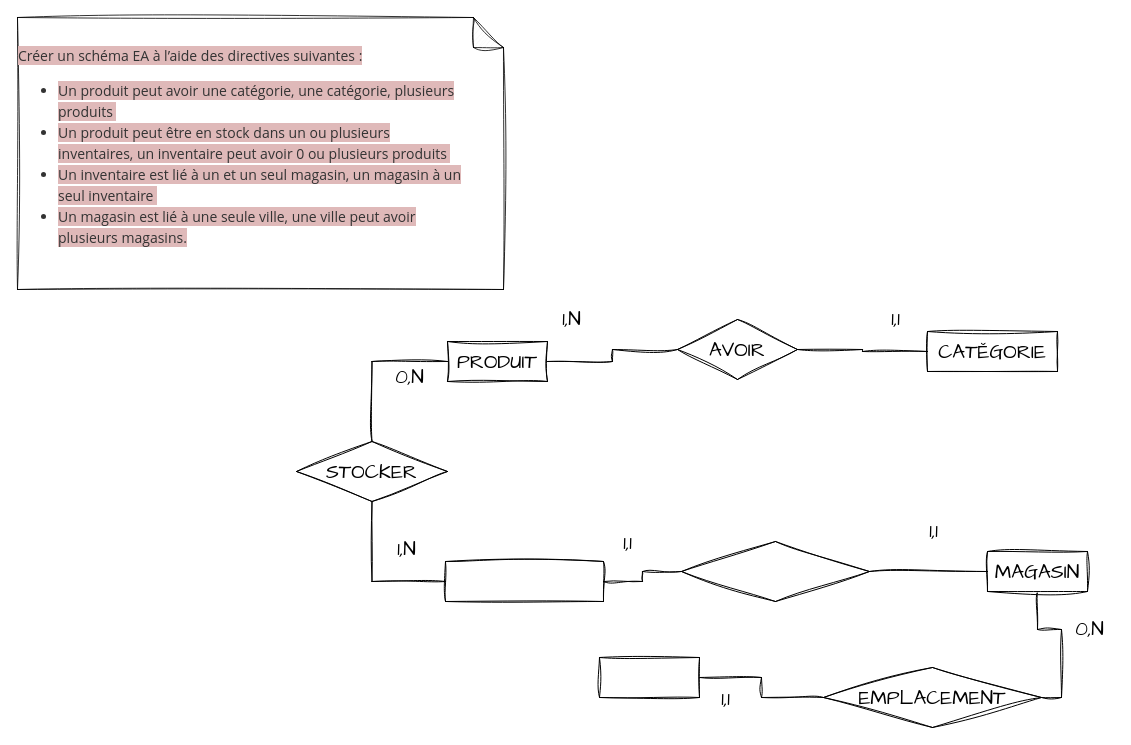
The diagram is 1131 pixels wide and 745 high, and some of its shapes have lost their labels. Here are the shapes that lost their labels. From the top down, the box of each, then its label:
(444, 560, 604, 602): INVENTAIRES
(680, 540, 870, 602): SITUER
(598, 656, 700, 698): VILLE
